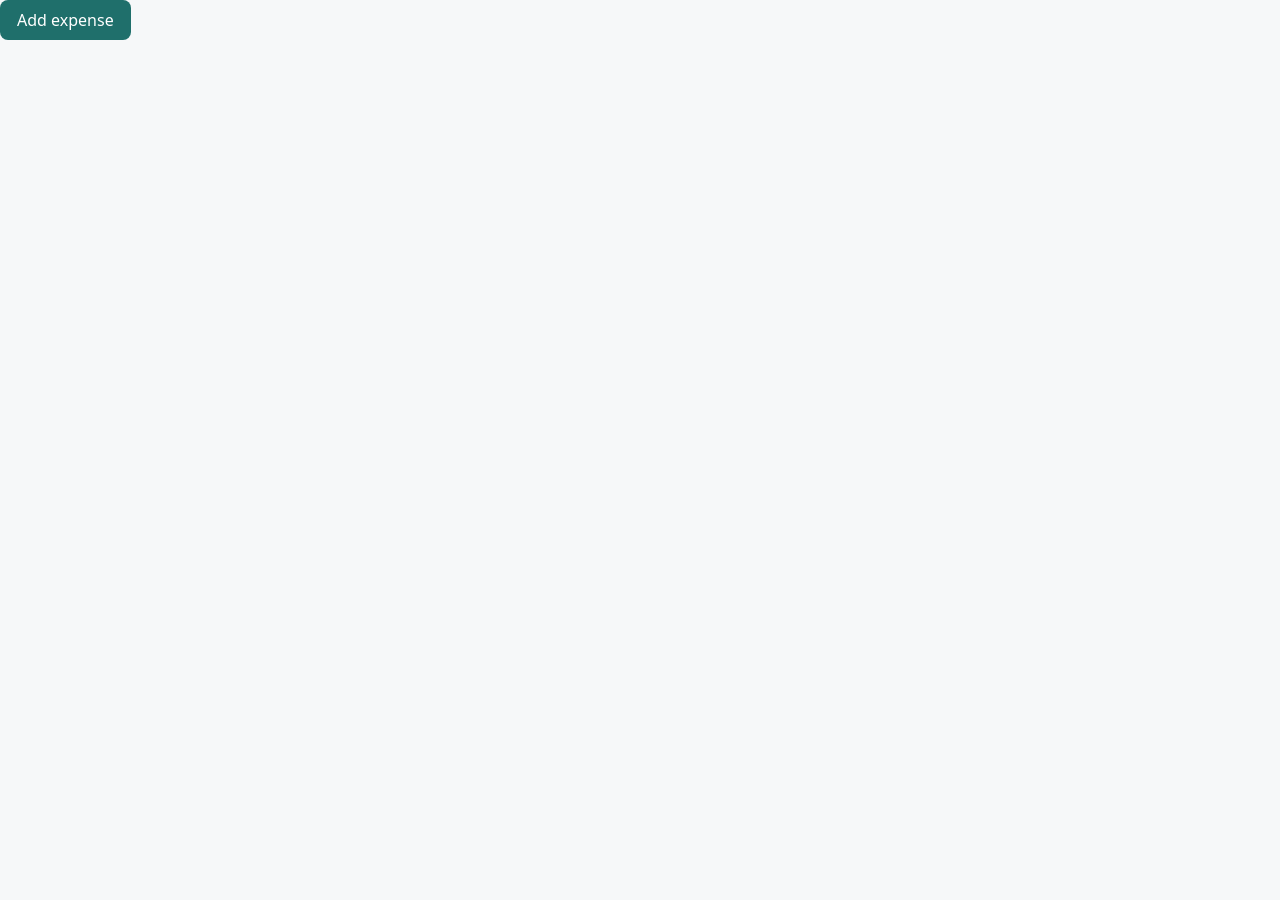
AddExpense announcements › failure: a throwing addExpense shows the action error, keeps the dialog open and the region empty
This screenshot has width=1280, height=900.
Click the button "Add expense".
click(65, 20)  # box [0,0,131,40]
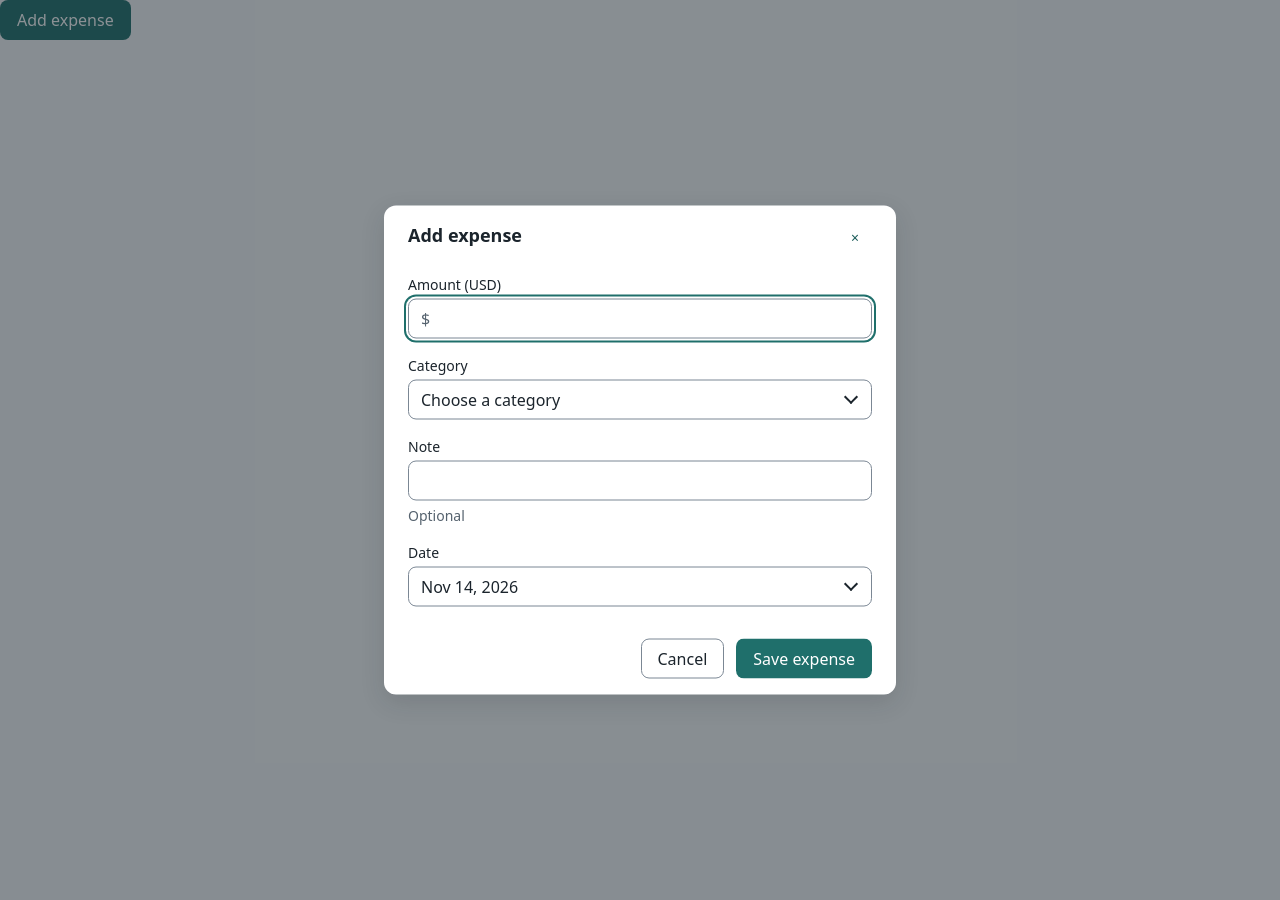
Type "20" into the field labelled "Amount (USD)".
click(649, 318); type("20")  # box [438,300,859,338]
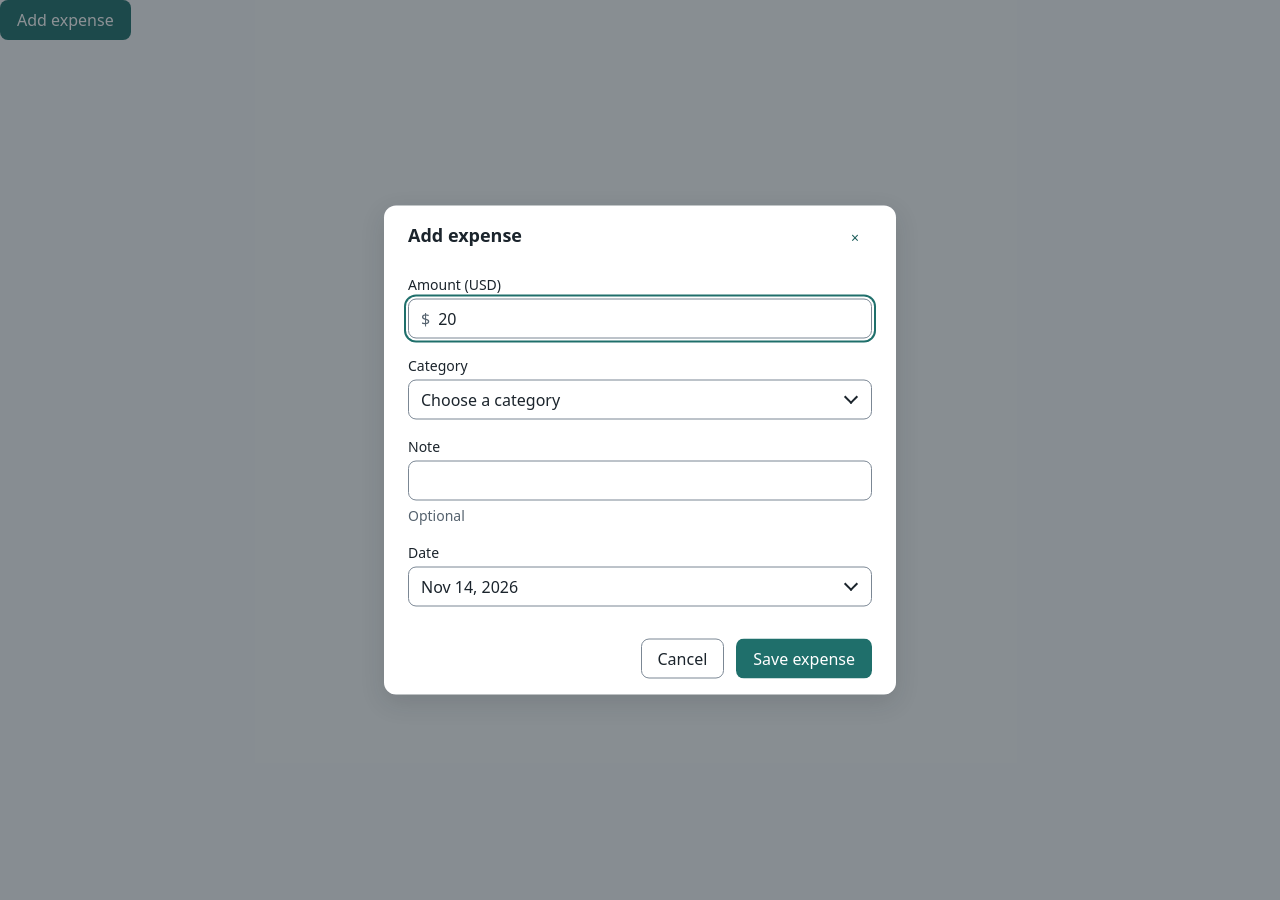
Select "Groceries" in the dropdown labelled "Category" at (640, 400), box [408,380,872,420]
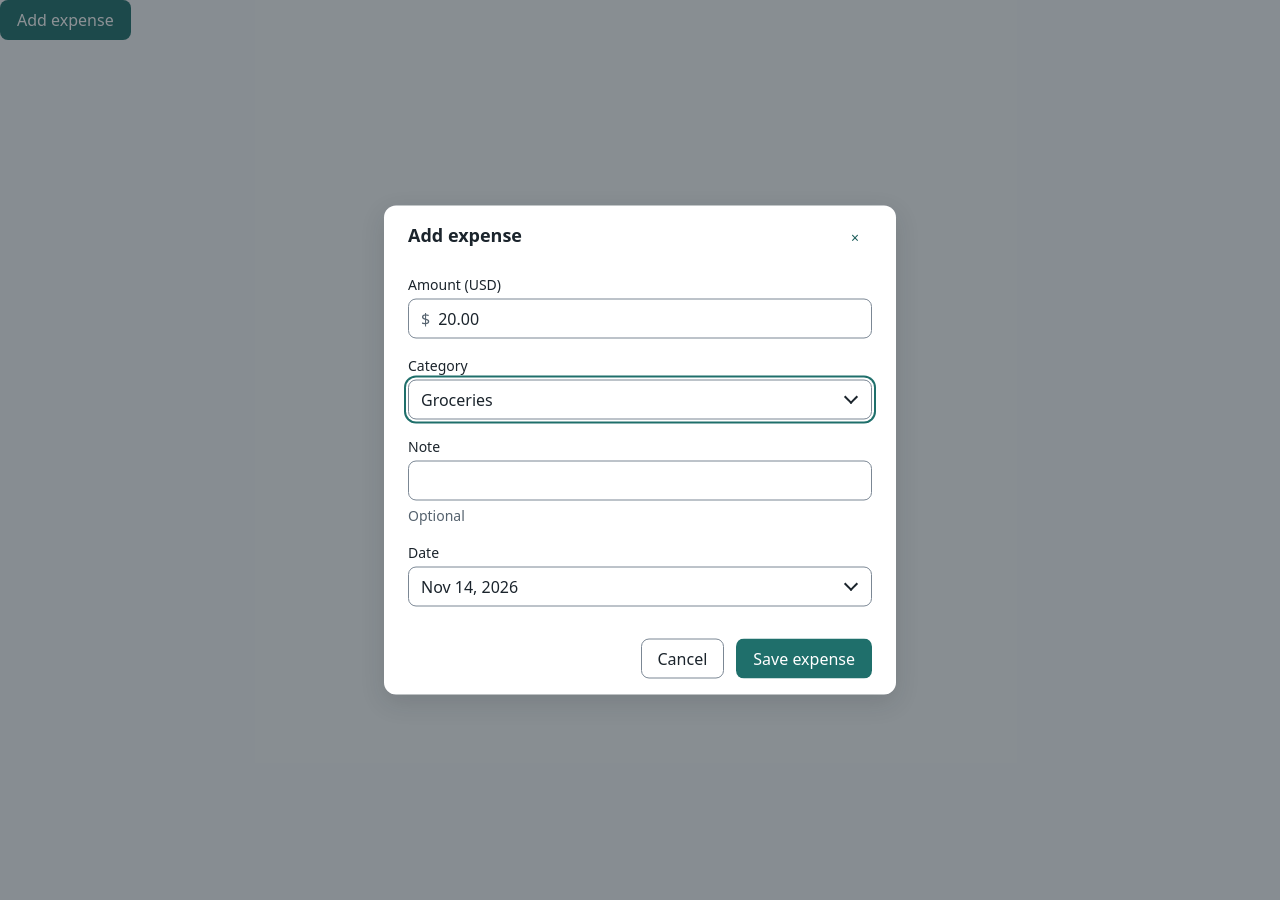
Click the button "Save expense".
click(804, 658)  # box [736,638,872,678]
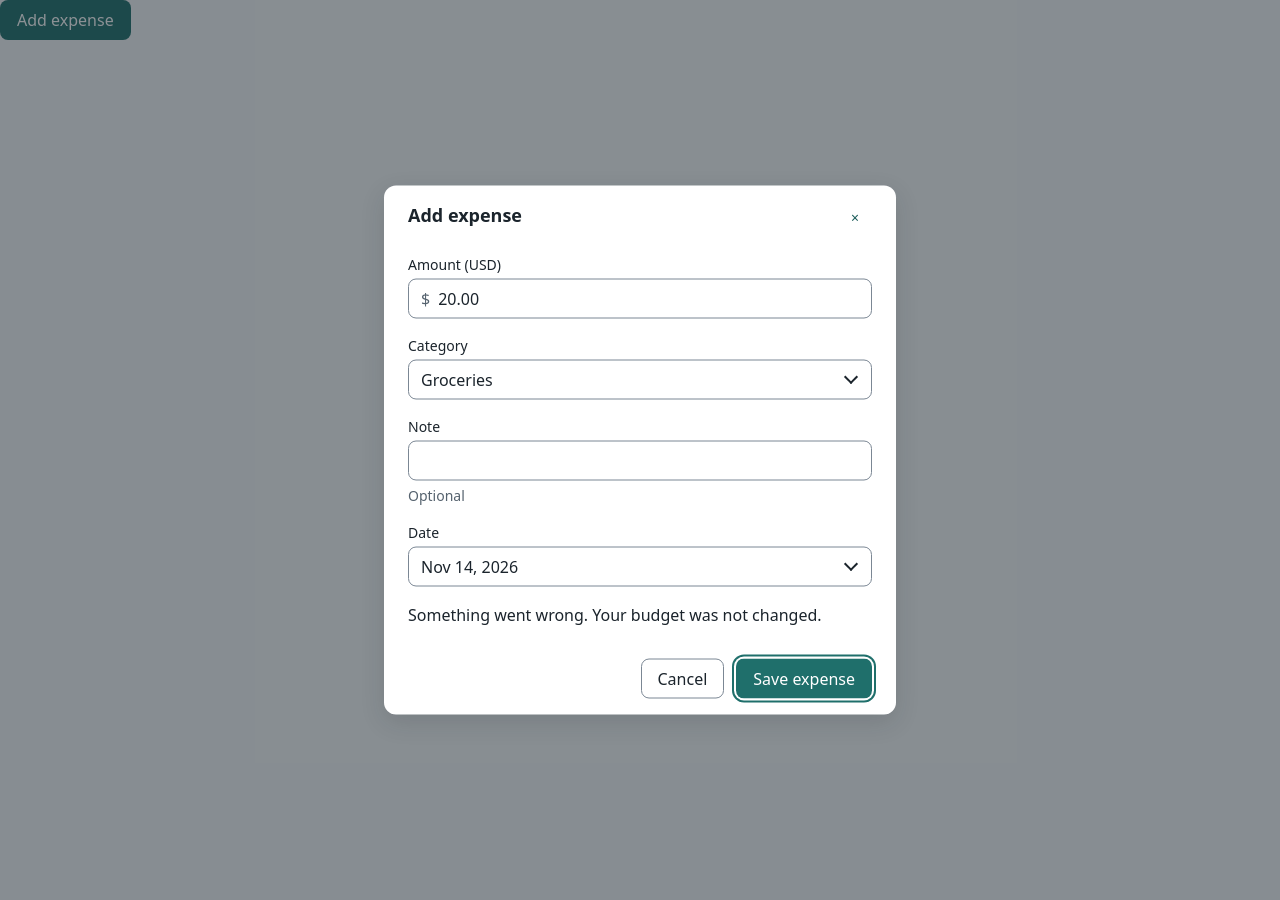
Check: the dialog "Add expense" is shown, box [384,186,896,714]
Check: the message reads "Something went wrong. Your budget was not changed.", box [408,604,822,626]
